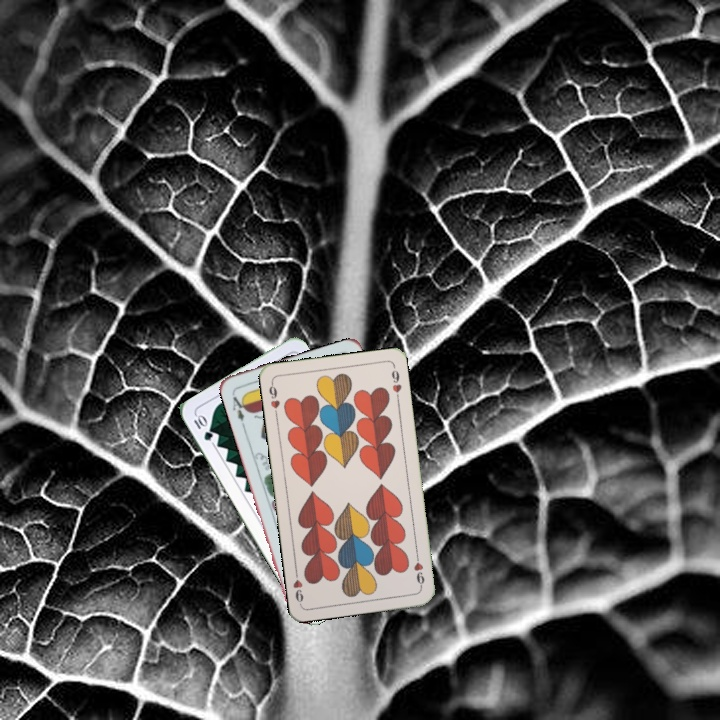EA: (228, 389, 250, 424)
G10: (190, 411, 216, 443)
H9: (265, 378, 282, 419), (410, 550, 427, 590)
